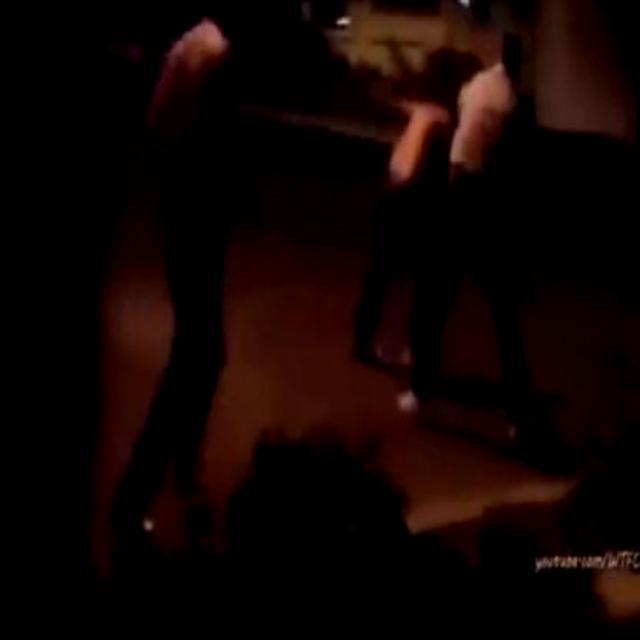fight: (378, 31, 524, 438)
